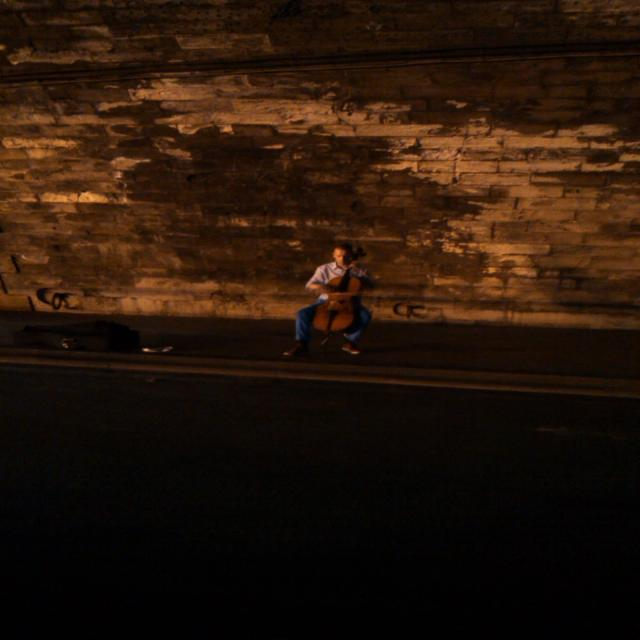cello: (308, 244, 369, 339)
